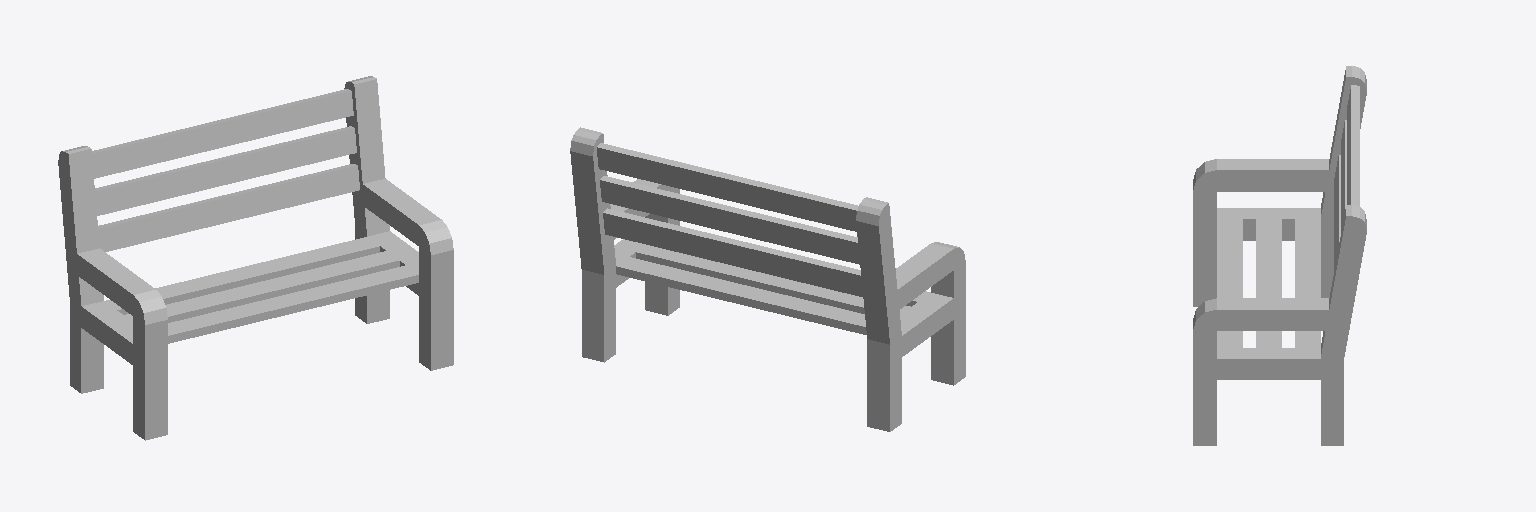
The model's file is Bench_1 3.obj.
The picture shows the model from 3 angles: view 1: azimuth 30°, elevation 25°; view 2: azimuth 150°, elevation 25°; view 3: azimuth 270°, elevation 25°; orthographic projection.
Visible parts, largest first — view 1: Bench_1; view 2: Bench_1; view 3: Bench_1.
Part boxes in pixels (left/top/right/bottom): Bench_1: left=58, top=76, right=453, bottom=440; Bench_1: left=570, top=127, right=965, bottom=431; Bench_1: left=1193, top=66, right=1366, bottom=445.
Size of the model in its own units: 0.7695 by 0.549 by 0.3758.